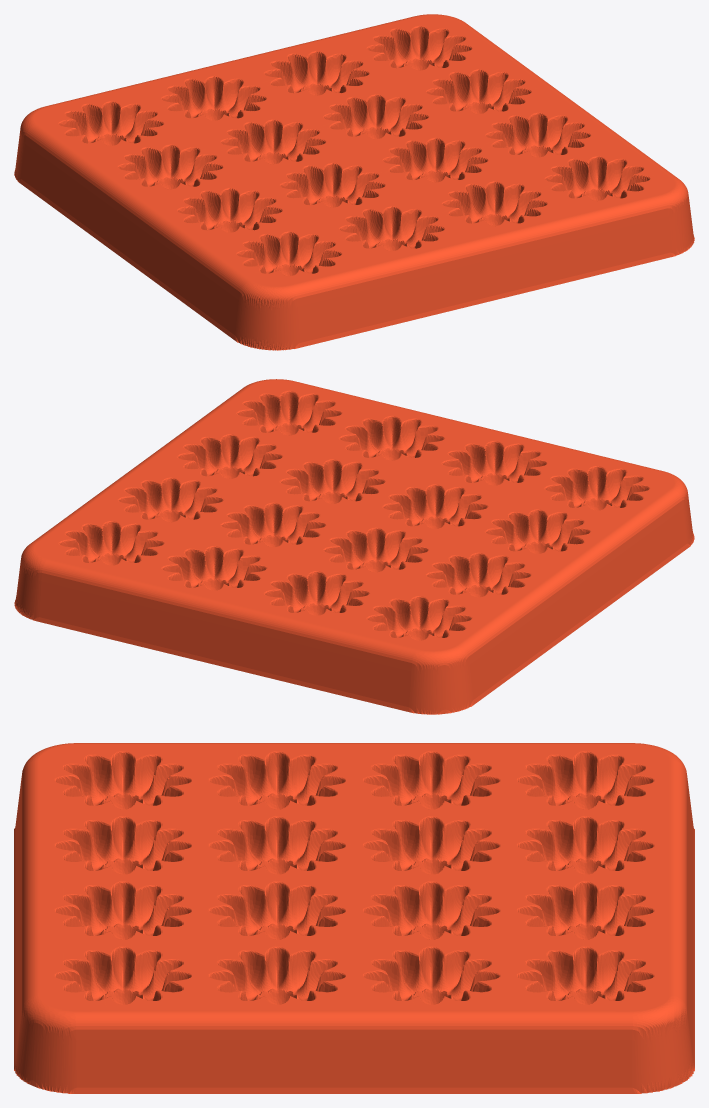
The model's file is mold.glb.
3 renders of one model, top to bottom at view 1: azimuth 30°, elevation 25°; view 2: azimuth 150°, elevation 25°; view 3: azimuth 270°, elevation 25°, orthographic. The views are drawn at different scales.
Parts seen in each view (by area): view 1: geometry_0; view 2: geometry_0; view 3: geometry_0.
Boxes of the visible parts, x1,y1,x2,y2 form: geometry_0: [14, 14, 694, 350]; geometry_0: [14, 379, 694, 714]; geometry_0: [14, 743, 694, 1093].
Bounding box in the file's own units: 0.0972 × 0.0114 × 0.0972.
